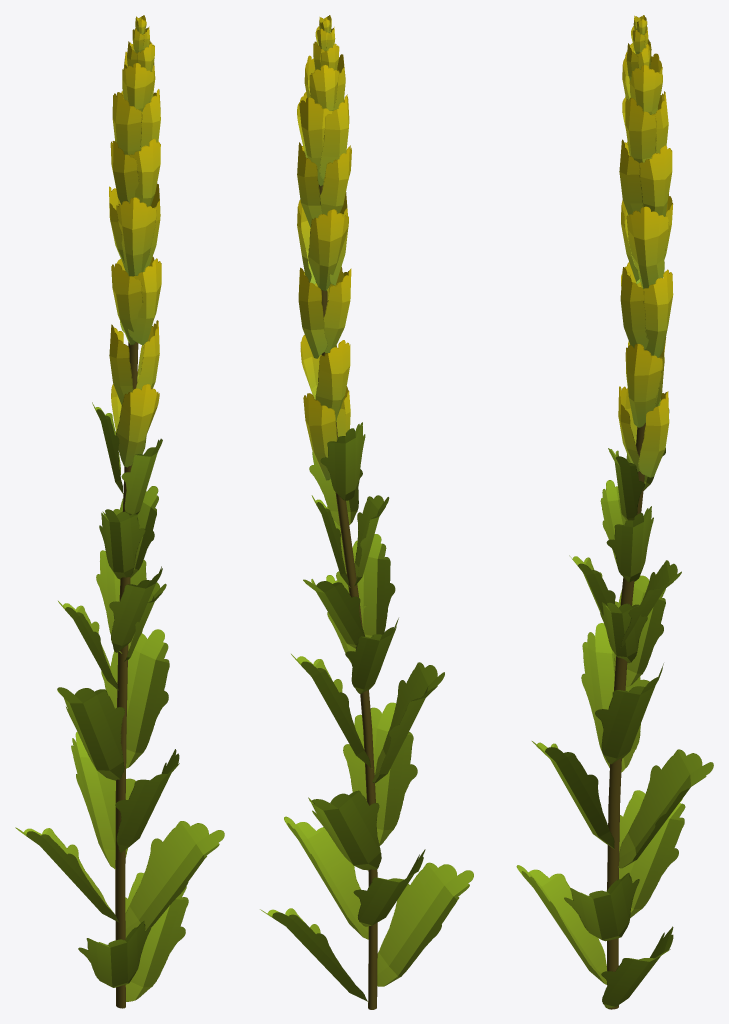
File: goldenpaintbrushBIG.fbx
3 views of the same model, side by side, from view 1: azimuth 30°, elevation 25°; view 2: azimuth 150°, elevation 25°; view 3: azimuth 270°, elevation 25° (orthographic). The views are drawn at different scales.
Parts seen in each view (by area): view 1: leaf, petal.001, BezierCurve; view 2: leaf, petal.001, BezierCurve; view 3: leaf, petal.001, BezierCurve.
Boxes of the visible parts, <box> form: leaf: <box>15,402,224,1001</box>; petal.001: <box>109,15,161,467</box>; BezierCurve: <box>115,342,138,1008</box>; leaf: <box>260,422,473,1001</box>; petal.001: <box>297,15,351,480</box>; BezierCurve: <box>319,185,377,1009</box>; leaf: <box>516,398,713,1008</box>; petal.001: <box>618,15,673,477</box>; BezierCurve: <box>607,349,645,1009</box>.
Size of the model in its own units: 18.91 by 100 by 18.23.
